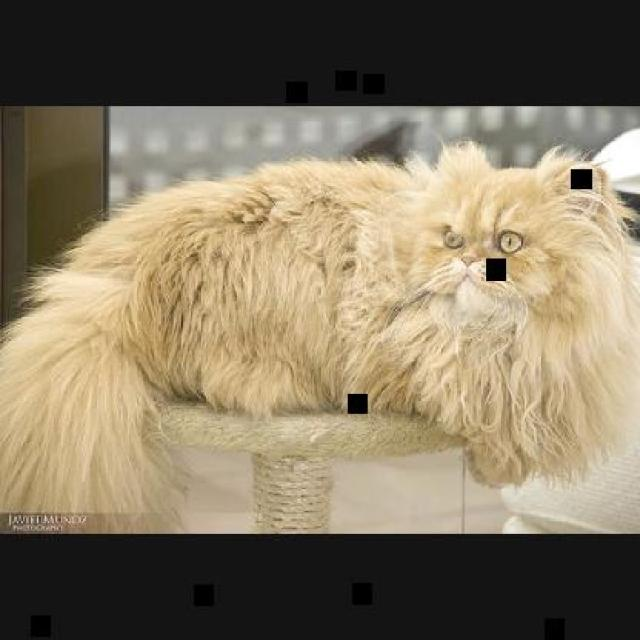unauthorized: (0, 136, 638, 529)
